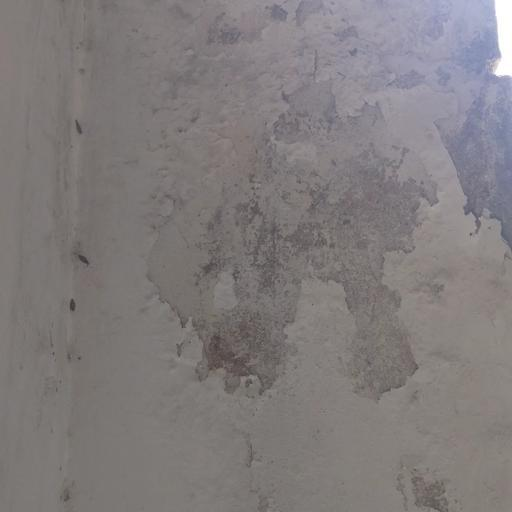peeling: (138, 0, 467, 398)
